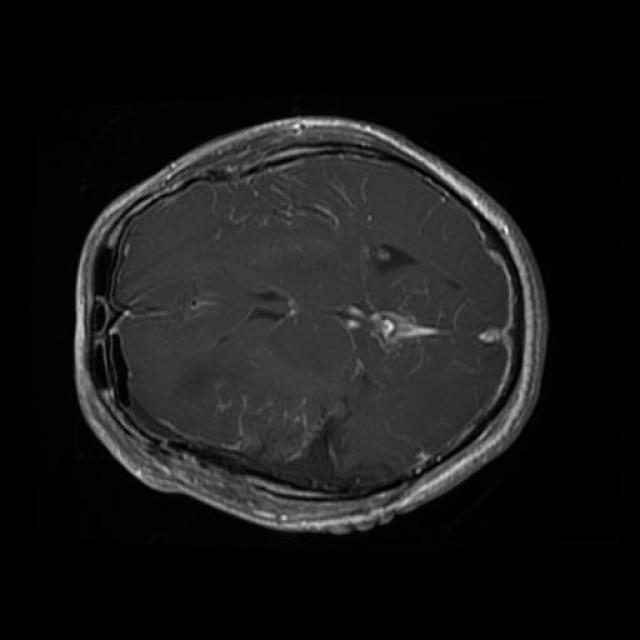Glioma: (76, 236, 148, 426), (295, 413, 345, 488)
